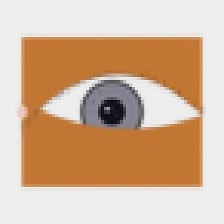pinguecula_lesion: (21, 98, 56, 125)
